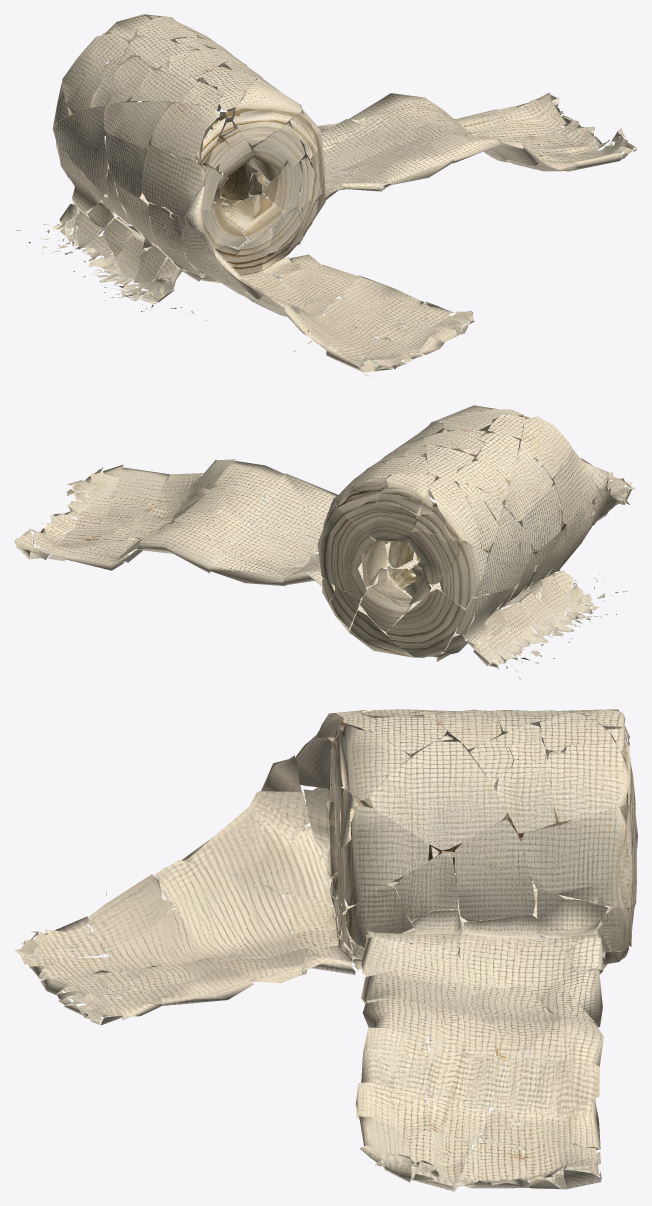
Rendered from DiscardedGauzeBandages_Optimized.glb.
3 renders of one model, top to bottom at view 1: azimuth 30°, elevation 25°; view 2: azimuth 150°, elevation 25°; view 3: azimuth 270°, elevation 25°, orthographic. The views are drawn at different scales.
Visible parts, largest first — view 1: Mesh_0; view 2: Mesh_0; view 3: Mesh_0.
Part boxes in pixels (<box>): Mesh_0: <box>16,14,637,376</box>; Mesh_0: <box>14,405,635,679</box>; Mesh_0: <box>14,709,637,1191</box>.
Bounding box in the file's own units: 1.72 × 0.5657 × 1.37.
1 material, 1 textured.
